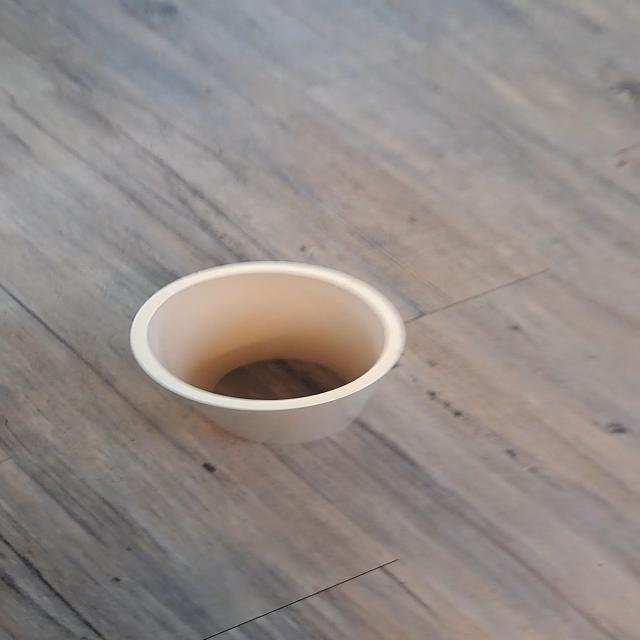CORAL: (101, 239, 447, 465)
